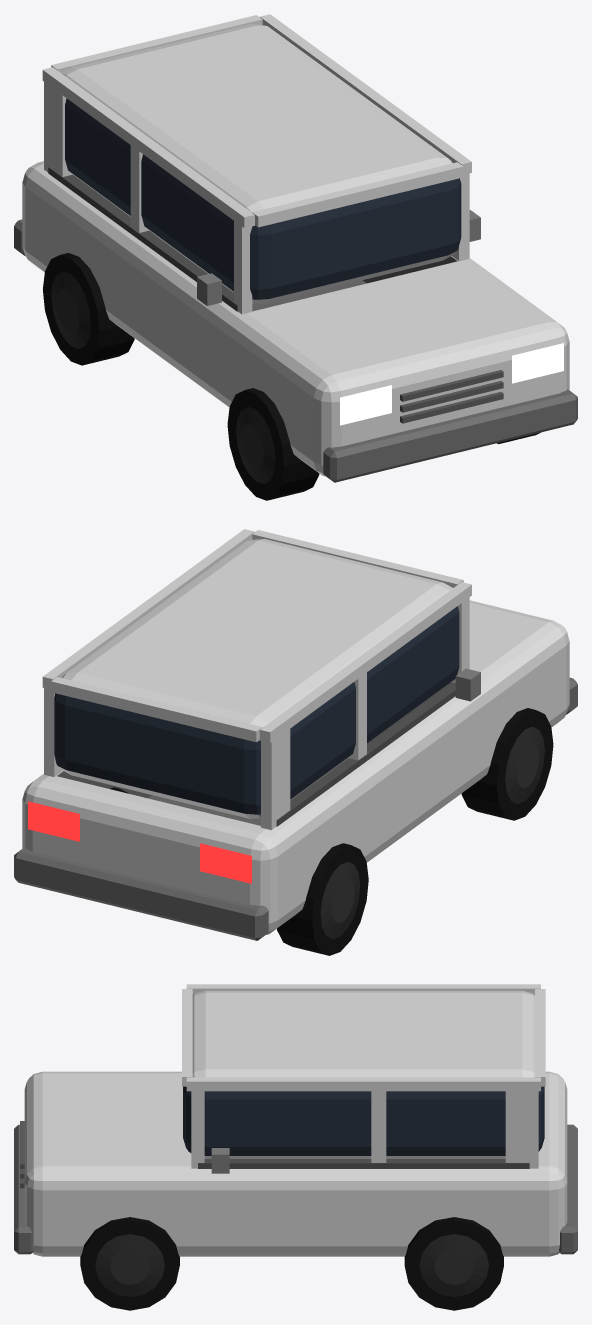
Rendered from car_hatch.glb.
3 views of the same model, one above another, from view 1: azimuth 30°, elevation 25°; view 2: azimuth 150°, elevation 25°; view 3: azimuth 270°, elevation 25° (orthographic). The views are drawn at different scales.
Parts seen in each view (by area): view 1: Body, WheelFL, WheelRL; view 2: Body, WheelFL, WheelRL; view 3: Body, WheelRR, WheelFR.
Part boxes in pixels (x1,y1,x2,y2): Body: (14, 14, 577, 482); WheelFL: (227, 388, 319, 500); WheelRL: (43, 253, 134, 365); Body: (14, 529, 577, 940); WheelFL: (461, 708, 553, 820); WheelRL: (277, 843, 368, 955); Body: (14, 984, 577, 1256); WheelRR: (404, 1217, 503, 1310); WheelFR: (80, 1217, 179, 1310).
Size of the model in its own units: 1.85 by 1.62 by 3.74.
